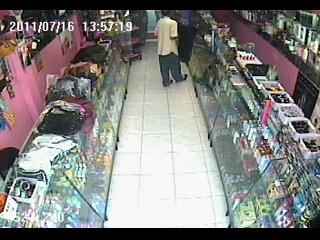Normal: (154, 10, 188, 88)
